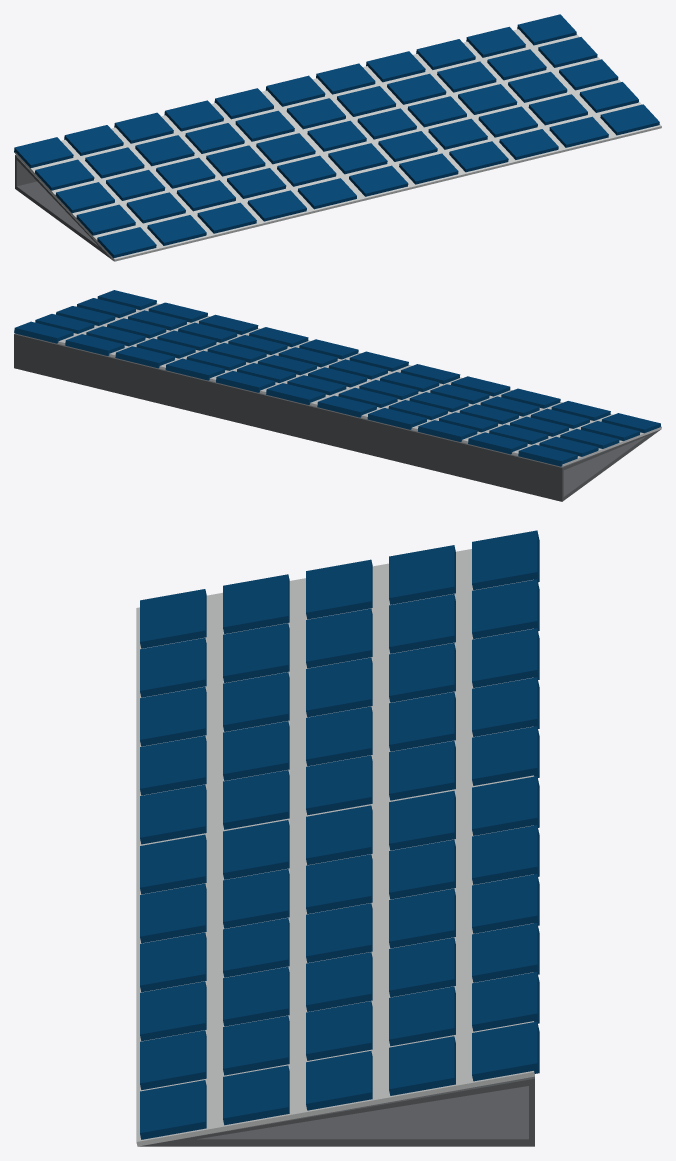
File: Solar Panel 5x11 small.glb
3 renders of one model, top to bottom at view 1: azimuth 30°, elevation 25°; view 2: azimuth 150°, elevation 25°; view 3: azimuth 270°, elevation 25°, orthographic. The views are drawn at different scales.
Parts seen in each view (by area): view 1: Mesh_Mesh_head_geo.001_lambert2SG.001; view 2: Mesh_Mesh_head_geo.001_lambert2SG.001; view 3: Mesh_Mesh_head_geo.001_lambert2SG.001.
Boxes of the visible parts, <box> form: Mesh_Mesh_head_geo.001_lambert2SG.001: <box>14,14,661,261</box>; Mesh_Mesh_head_geo.001_lambert2SG.001: <box>14,290,661,501</box>; Mesh_Mesh_head_geo.001_lambert2SG.001: <box>136,530,539,1146</box>.
Size of the model in its own units: 337 by 24.19 by 108.
